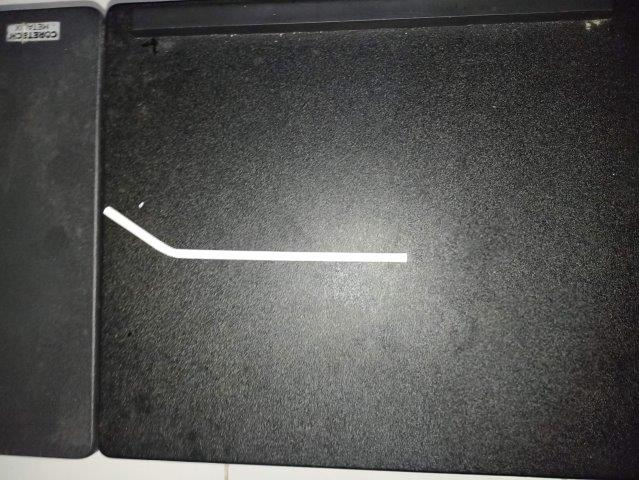sedotan: (103, 206, 407, 263)
